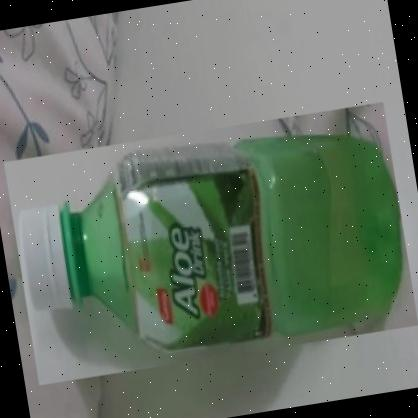bottle: (3, 102, 418, 385)
cap: (9, 190, 90, 330)
label: (98, 123, 280, 373)
